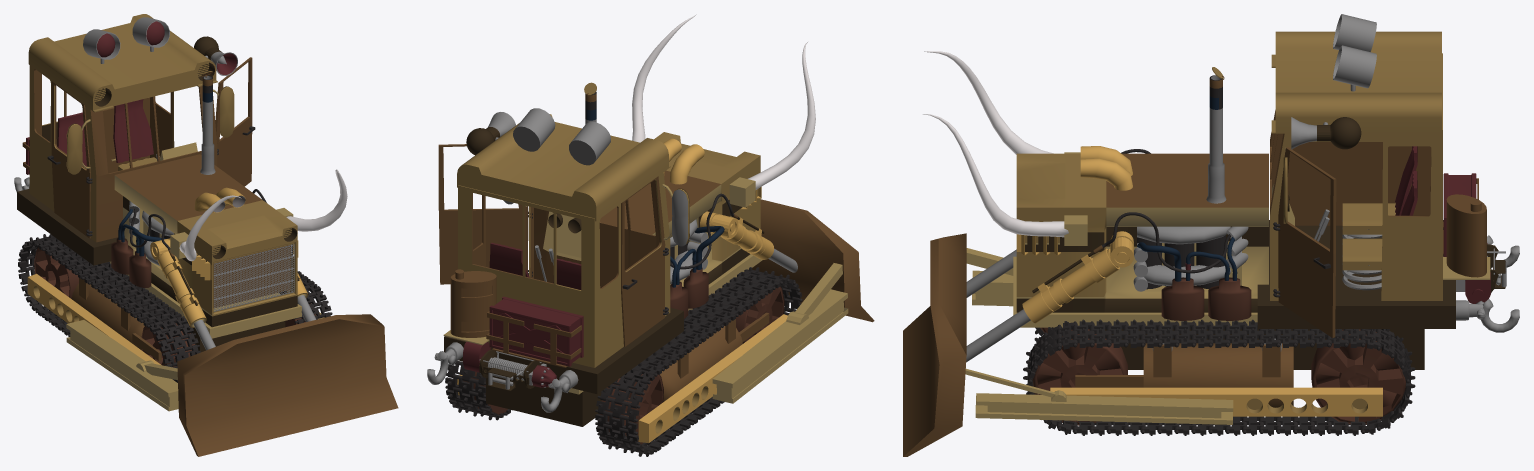
Rendered from tractor-tracktor.glb.
3 views of the same model, side by side, from view 1: azimuth 30°, elevation 25°; view 2: azimuth 150°, elevation 25°; view 3: azimuth 270°, elevation 25° (orthographic). The views are drawn at different scales.
Parts seen in each view (by area): view 1: pointLight6; view 2: pointLight6; view 3: pointLight6.
Part boxes in pixels (x1,y1,x2,y2): pointLight6: [14, 14, 398, 456]; pointLight6: [427, 14, 874, 456]; pointLight6: [903, 14, 1519, 456].
Size of the model in its own units: 6.5 by 7.82 by 12.
